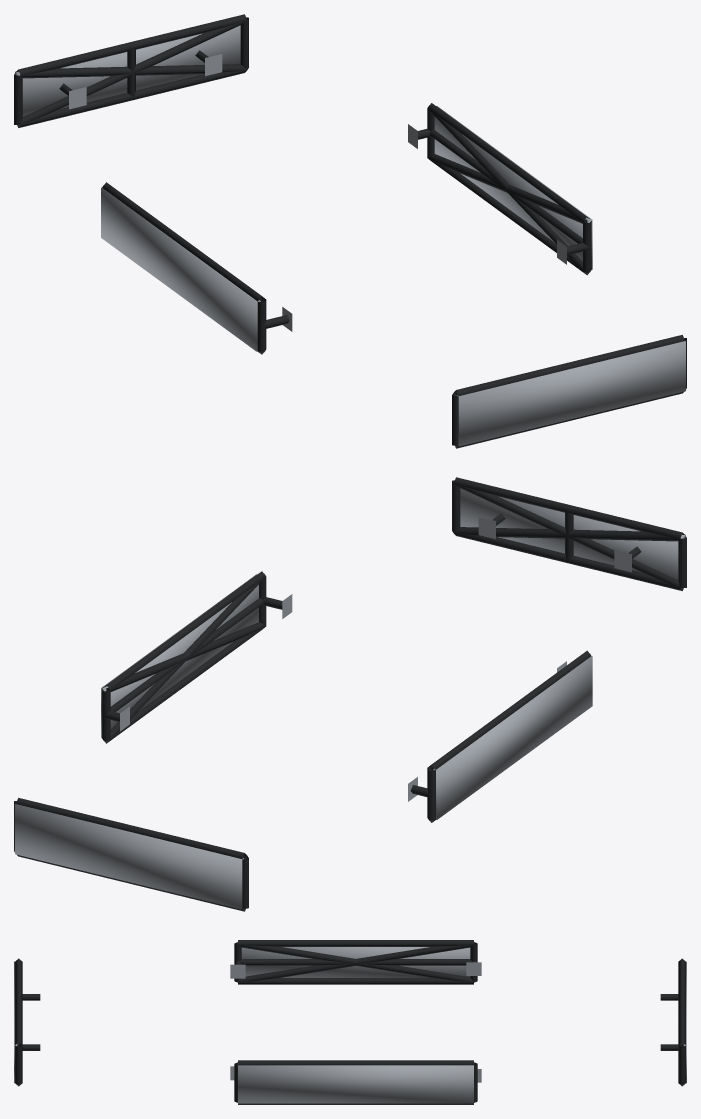
File: hozuki_vigilia_protecao.glb
3 views of the same model, one above another, from view 1: azimuth 30°, elevation 25°; view 2: azimuth 150°, elevation 25°; view 3: azimuth 270°, elevation 25° (orthographic). The views are drawn at different scales.
Parts seen in each view (by area): view 1: Protection_front_Level3_Details, Protection_left_Level3_Details, Protection_rear_Level1_Details, Protection_rear_Level3_Details, Protection_right_Level1_Details, Protection_rear_Level2_Details, Protection_right_Level2_Details, Protection_right_Level3_Details, Protection_front_Level1_Details, Protection_left_Level1_Details; view 2: Protection_rear_Level3_Details, Protection_left_Level3_Details, Protection_front_Level1_Details, Protection_front_Level3_Details, Protection_right_Level1_Details, Protection_front_Level2_Details, Protection_right_Level2_Details, Protection_right_Level3_Details, Protection_rear_Level1_Details, Protection_left_Level1_Details; view 3: Protection_right_Level3_Details, Protection_left_Level2_Details, Protection_left_Level1_Details, Protection_left_Level3_Details, Protection_right_Level1_Details, Protection_rear_Level1_Details, Protection_front_Level1_Details.
Part boxes in pixels (left/top/right/bottom): Protection_front_Level3_Details: left=457, top=341, right=685, bottom=446; Protection_left_Level3_Details: left=101, top=187, right=260, bottom=351; Protection_rear_Level1_Details: left=14, top=14, right=248, bottom=127; Protection_rear_Level3_Details: left=15, top=25, right=240, bottom=116; Protection_right_Level1_Details: left=408, top=103, right=591, bottom=275; Protection_rear_Level2_Details: left=16, top=20, right=246, bottom=126; Protection_right_Level2_Details: left=427, top=109, right=590, bottom=274; Protection_right_Level3_Details: left=434, top=106, right=592, bottom=269; Protection_front_Level1_Details: left=452, top=335, right=686, bottom=448; Protection_left_Level1_Details: left=102, top=182, right=292, bottom=354; Protection_rear_Level3_Details: left=15, top=804, right=243, bottom=909; Protection_left_Level3_Details: left=433, top=656, right=592, bottom=819; Protection_front_Level1_Details: left=452, top=477, right=686, bottom=590; Protection_front_Level3_Details: left=460, top=488, right=685, bottom=579; Protection_right_Level1_Details: left=102, top=571, right=292, bottom=743; Protection_front_Level2_Details: left=454, top=483, right=684, bottom=589; Protection_right_Level2_Details: left=103, top=577, right=265, bottom=743; Protection_right_Level3_Details: left=101, top=574, right=258, bottom=738; Protection_rear_Level1_Details: left=14, top=798, right=248, bottom=911; Protection_left_Level1_Details: left=408, top=650, right=591, bottom=822; Protection_right_Level3_Details: left=238, top=1065, right=473, bottom=1103; Protection_left_Level2_Details: left=237, top=943, right=474, bottom=982; Protection_left_Level1_Details: left=230, top=940, right=481, bottom=984; Protection_left_Level3_Details: left=241, top=947, right=470, bottom=977; Protection_right_Level1_Details: left=230, top=1060, right=481, bottom=1104; Protection_rear_Level1_Details: left=660, top=958, right=685, bottom=1086; Protection_front_Level1_Details: left=15, top=958, right=40, bottom=1086.
Bounding box in the file's own units: 2.12 × 0.354 × 4.85.
1 material, 1 textured.
